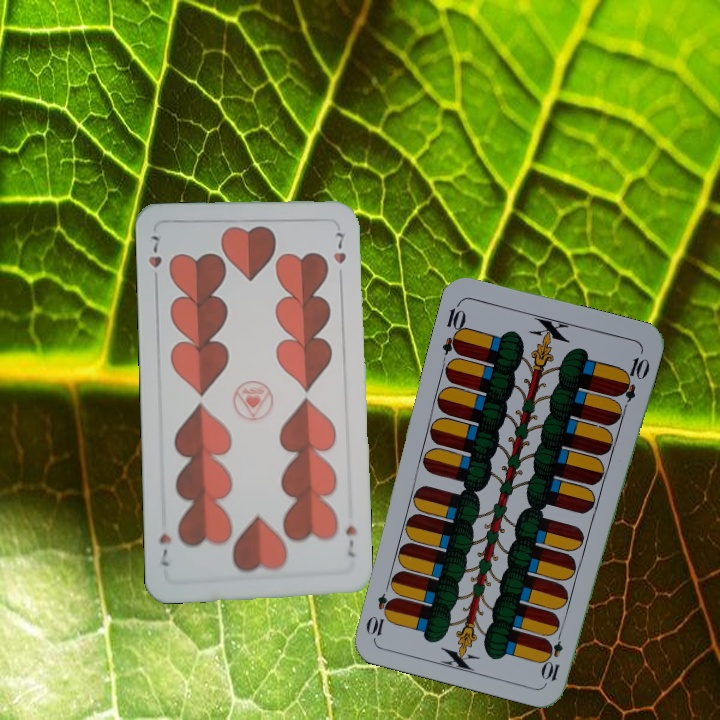E10: (438, 298, 469, 357), (540, 625, 566, 684)
H7: (145, 231, 165, 287), (341, 521, 359, 560)
